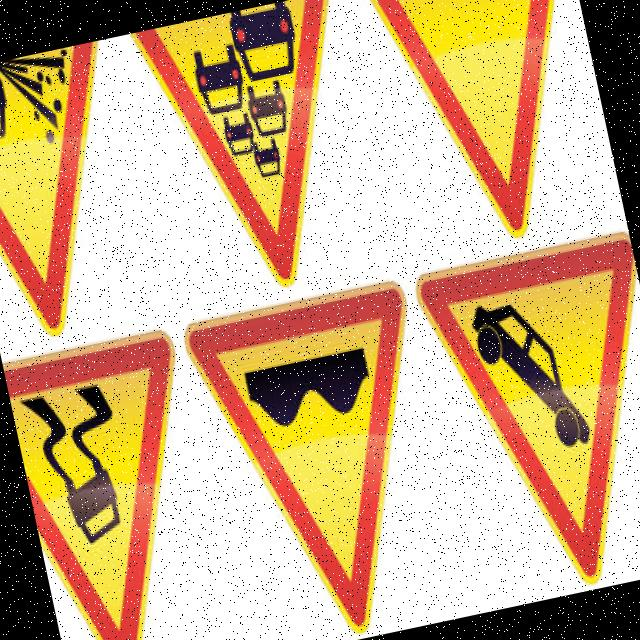road_slippery: (0, 313, 243, 640)
